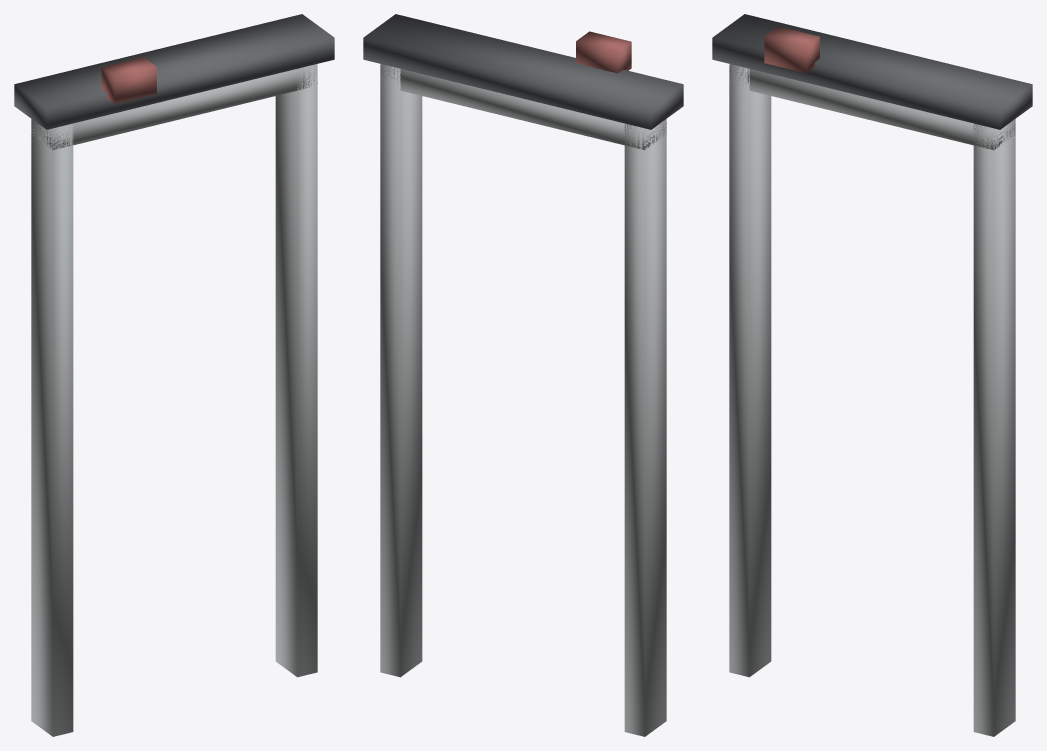
The model's file is doorway_fire_rated_w96_h240_d16.glb.
The picture shows the model from 3 angles, left to right: view 1: azimuth 30°, elevation 25°; view 2: azimuth 150°, elevation 25°; view 3: azimuth 330°, elevation 25°; orthographic projection.
Parts seen in each view (by area): view 1: world; view 2: world; view 3: world.
Part boxes in pixels (left/top/right/bottom): world: left=14, top=14, right=334, bottom=736; world: left=363, top=14, right=683, bottom=736; world: left=712, top=14, right=1032, bottom=736.
Size of the model in its own units: 1.23 by 2.69 by 0.3.
